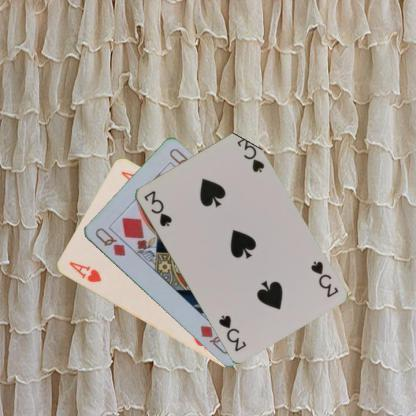3s: (308, 258, 340, 299), (141, 188, 173, 228)
Ah: (66, 259, 102, 284)
Qd: (92, 226, 127, 258)
